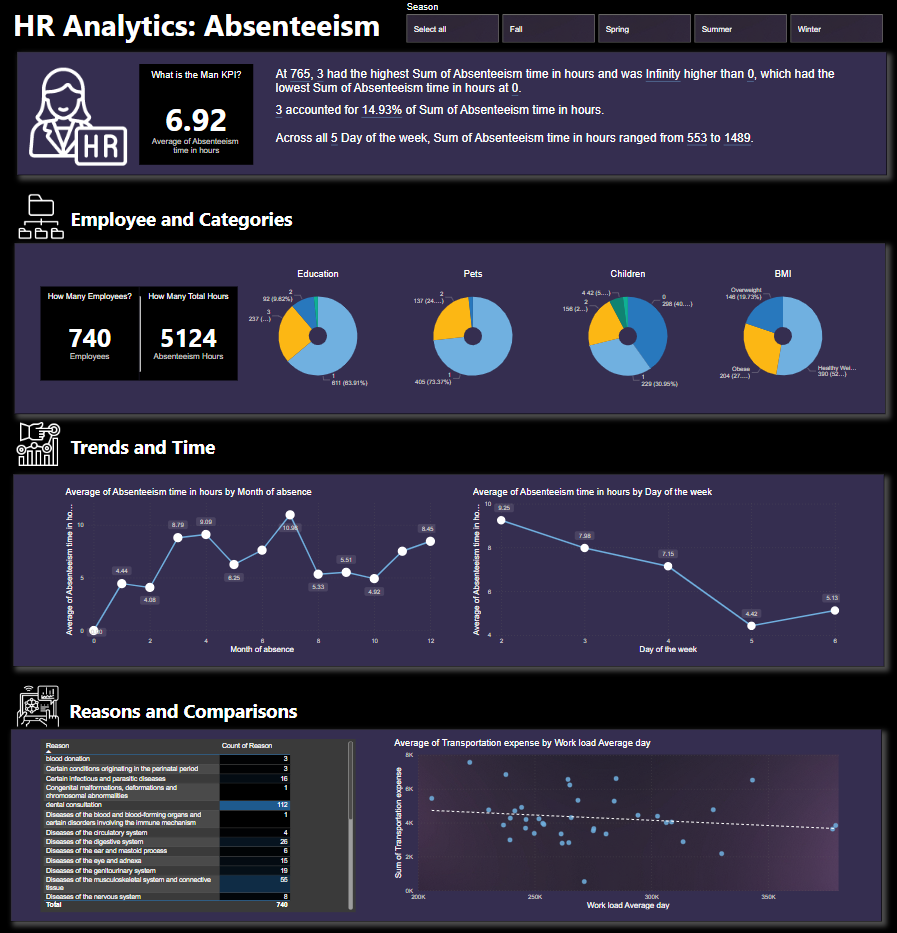

Layout of this report page (visuals, bound fields, positions):
{"tool":"powerbi","page":{"name":"Page 1","canvas":[1880,1920],"ordinal":0},"visuals":[{"type":"shape","box":[96.5,115.8,1740,247.5],"z":0},{"type":"shape","box":[86.2,1470.6,1742,385.2],"z":1000},{"type":"shape","box":[89.5,959.6,1742.5,385],"z":2000},{"type":"shape","box":[91.6,496.7,1742.5,342.5],"z":3000},{"type":"card","title":"What is the Man KPI?","fields":{"Values":["Avg(Query1.Absenteeism_time_in_hours)"]},"box":[343,140.7,228.3,201.7],"z":4000},{"type":"donutChart","title":"Education","fields":{"Y":["Sum(Query1.Education)"],"Category":["Query1.Education"]},"box":[544.1,549.7,310,247.5],"z":5000},{"type":"donutChart","title":"Children","fields":{"Y":["CountNonNull(Absenteeism_at_work01.Son)"],"Category":["Absenteeism_at_work01.Son"]},"box":[1164.3,550.7,310,248.3],"z":6000},{"type":"donutChart","title":"Pets","fields":{"Category":["Absenteeism_at_work01.Son"],"Y":["Sum(Absenteeism_at_work01.Pet)"]},"box":[854.3,550.7,310,248.3],"z":7000},{"type":"donutChart","title":"BMI","fields":{"Category":["Query1.BMI_Category"],"Y":["CountNonNull(Query1.Social_drinker)"]},"box":[1474.1,549.7,310,247.5],"z":8000},{"type":"lineChart","fields":{"Category":["Absenteeism_at_work01.Month_of_absence"],"Y":["Avg(Absenteeism_at_work01.Absenteeism time in hours)"]},"box":[190,986,750,340],"z":9000},{"type":"lineChart","fields":{"Category":["Absenteeism_at_work01.Day_of_the_week"],"Y":["Avg(Absenteeism_at_work01.Absenteeism time in hours)"]},"box":[1004,986,744,340],"z":10000},{"type":"tableEx","fields":{"Values":["Query1.Reason","CountNonNull(Query1.Reason)"]},"box":[145,1490,630,346.7],"z":11000},{"type":"scatterChart","title":"Average of Transportation expense by Work load Average day","fields":{"X":["Sum(Query1.Work load Average day)"],"Y":["Sum(Query1.Transportation expense)"]},"box":[848.3,1488.3,913.3,348.3],"z":12000},{"type":"card","title":"How Many Employees?","fields":{"Values":["CountNonNull(Query1.Absenteeism_time_in_hours)"]},"box":[146,585.7,196.7,188.3],"z":13000},{"type":"textbox","box":[86,16,808,100],"z":14000},{"type":"textbox","box":[200.3,418.8,808,76],"z":15000},{"type":"textbox","box":[200,874,808,68],"z":16000},{"type":"textbox","box":[196.8,1402.8,808,68],"z":17000},{"type":"image","box":[116,141.3,210,206],"z":18000},{"type":"image","box":[92.3,394.8,108,100],"z":19000},{"type":"image","box":[86.8,1376.8,104,94],"z":20000},{"type":"image","box":[90,850,101.4,100],"z":21000},{"type":"card","title":"How Many Total Hours","fields":{"Values":["Sum(Query1.Absenteeism_time_in_hours)"]},"box":[342.7,585.7,196.7,188.3],"z":22000},{"type":"shape","box":[132.6,604.7,424,150],"z":23000},{"type":"advancedSlicerVisual","fields":{"Values":["Query1.Season_Names"]},"box":[872.5,15,965,87.5],"z":24000},{"type":"textbox","box":[616.7,141.7,1183.3,200],"z":25000}]}

Visuals, with their boxes in screenshot pixels (x1, y1, x2, y2), scaled from the page's 1880x1920 canvas onto the 897x933 screenshot:
shape: box(46, 56, 876, 177)
shape: box(41, 715, 872, 902)
shape: box(43, 466, 874, 653)
shape: box(44, 241, 875, 408)
"What is the Man KPI?" card: box(164, 68, 273, 166)
"Education" donutChart: box(260, 267, 408, 387)
"Children" donutChart: box(556, 268, 703, 388)
"Pets" donutChart: box(408, 268, 556, 388)
"BMI" donutChart: box(703, 267, 851, 387)
lineChart - Absenteeism_at_work01.Month_of_absence x Avg(Absenteeism_at_work01.Absenteeism time in hours): box(91, 479, 448, 644)
lineChart - Absenteeism_at_work01.Day_of_the_week x Avg(Absenteeism_at_work01.Absenteeism time in hours): box(479, 479, 834, 644)
tableEx - Query1.Reason x CountNonNull(Query1.Reason): box(69, 724, 370, 893)
"Average of Transportation expense by Work load Average day" scatterChart: box(405, 723, 841, 892)
"How Many Employees?" card: box(70, 285, 164, 376)
textbox: box(41, 8, 427, 56)
textbox: box(96, 204, 481, 240)
textbox: box(95, 425, 481, 458)
textbox: box(94, 682, 479, 715)
image: box(55, 69, 156, 169)
image: box(44, 192, 96, 240)
image: box(41, 669, 91, 715)
image: box(43, 413, 91, 462)
"How Many Total Hours" card: box(164, 285, 257, 376)
shape: box(63, 294, 266, 367)
advancedSlicerVisual - Query1.Season_Names: box(416, 7, 877, 50)
textbox: box(294, 69, 859, 166)
